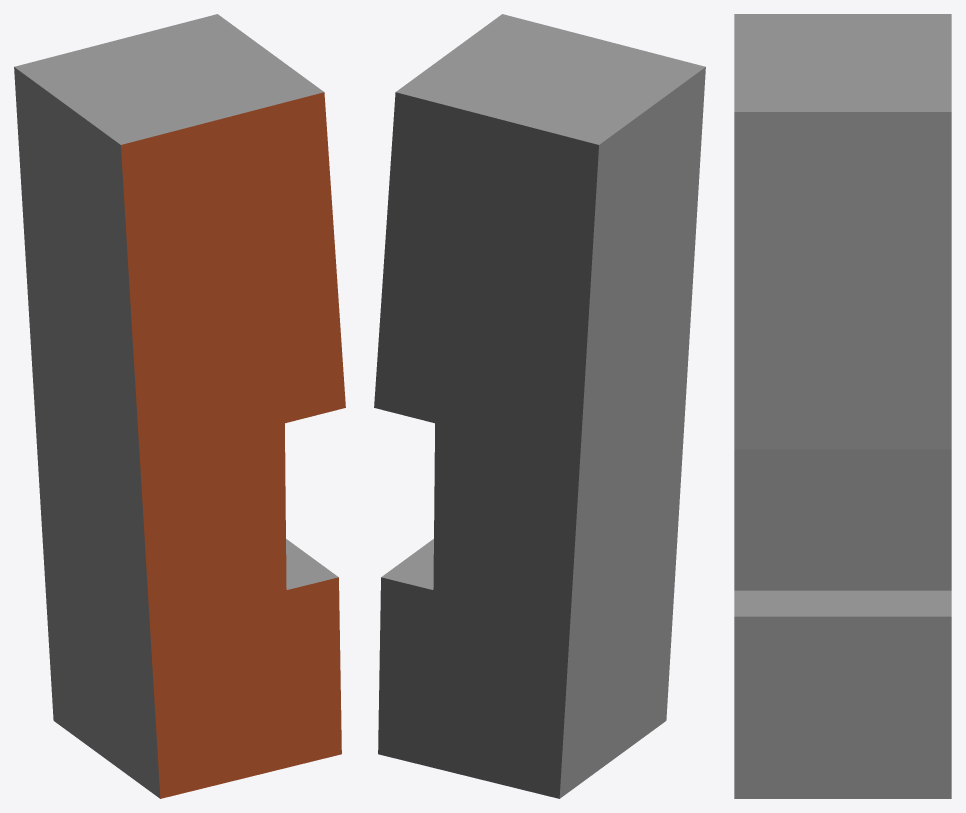
File: construction_4109_assumed_A_Casa_h6m.obj
The picture shows the model from 3 angles, left to right: view 1: azimuth 30°, elevation 25°; view 2: azimuth 150°, elevation 25°; view 3: azimuth 270°, elevation 25°; orthographic projection.
Visible parts, largest first — view 1: construction_4109_assumed_A_Casa; view 2: construction_4109_assumed_A_Casa; view 3: construction_4109_assumed_A_Casa.
Part boxes in pixels (x1=…): construction_4109_assumed_A_Casa: x1=14, y1=14, x2=345, y2=798; construction_4109_assumed_A_Casa: x1=374, y1=14, x2=705, y2=798; construction_4109_assumed_A_Casa: x1=734, y1=14, x2=951, y2=798.
Bounding box in the file's own units: 7.3 × 20.66 × 6.
